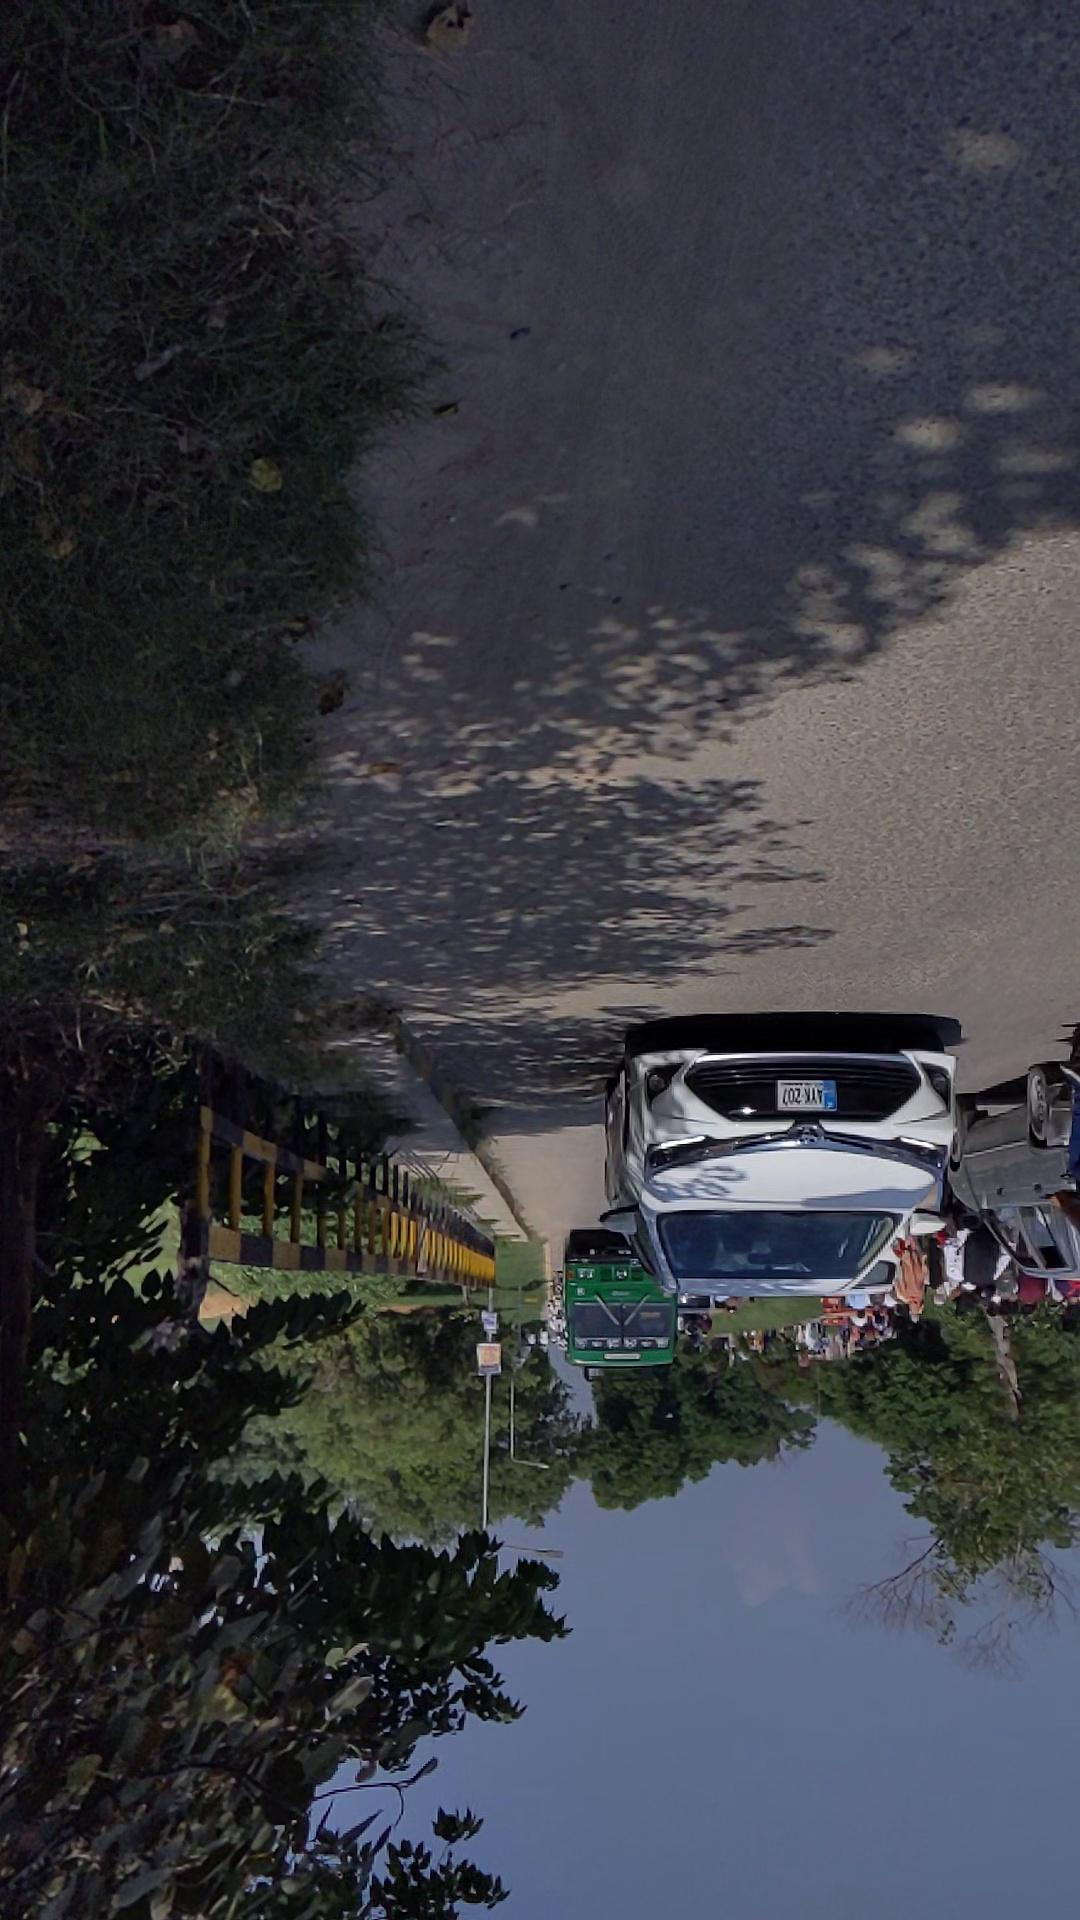windshield: (179, 636, 427, 707)
